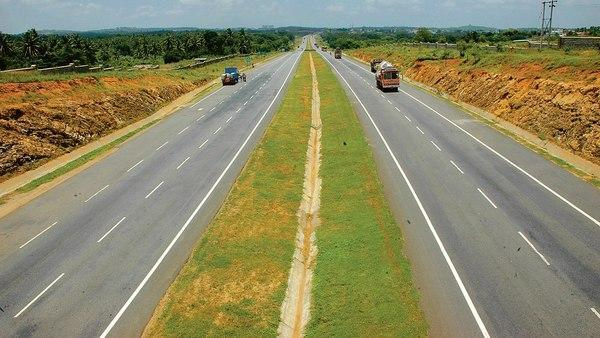car: (368, 54, 406, 96), (218, 62, 253, 88)
